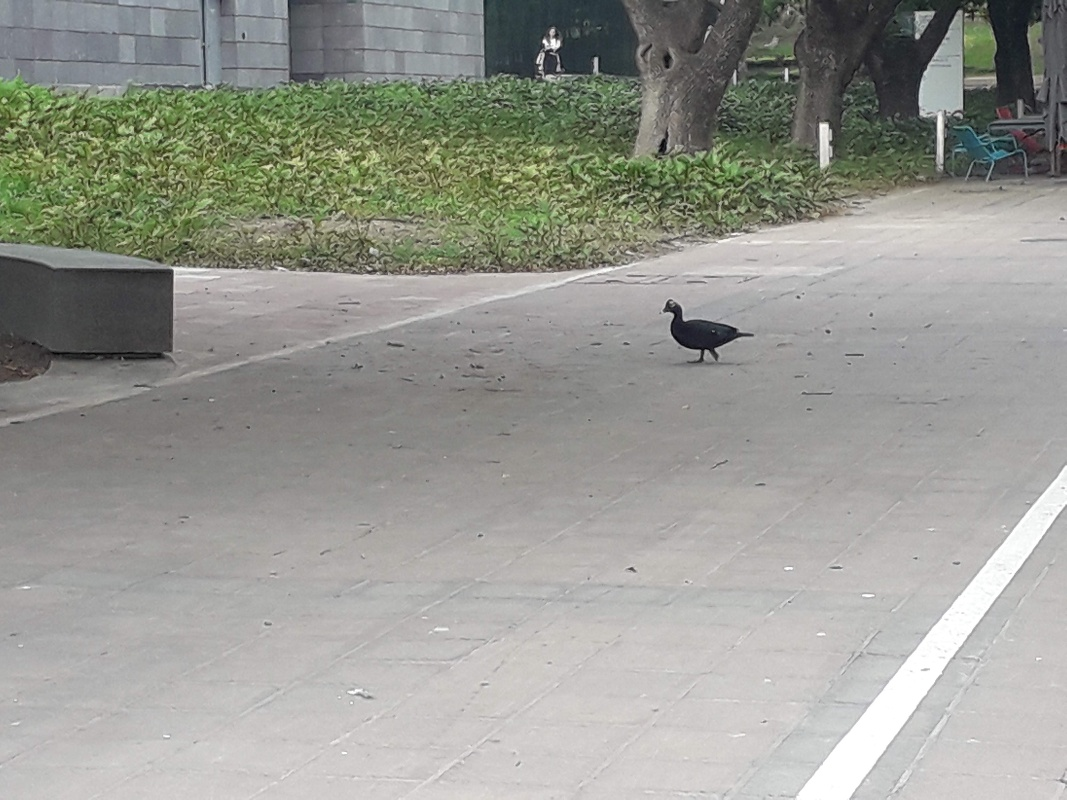pato: (660, 295, 736, 373)
